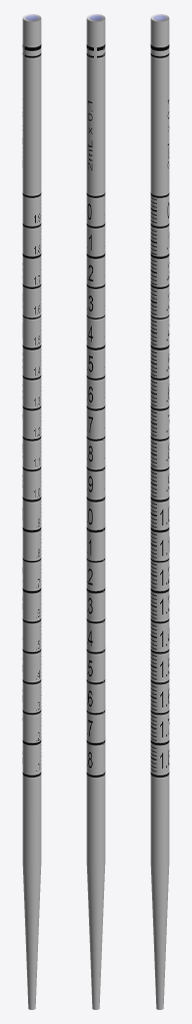
Rendered from 2mlserologicalsplittop.fbx.
3 renders of one model, left to right at view 1: azimuth 90°, elevation 25°; view 2: azimuth 150°, elevation 25°; view 3: azimuth 270°, elevation 25°, orthographic.
Parts seen in each view (by area): view 1: serological-pipette-2-ref; view 2: serological-pipette-2-ref; view 3: serological-pipette-2-ref.
Boxes of the visible parts, x1,y1,x2,y2 form: serological-pipette-2-ref: (22,14,41,1009); serological-pipette-2-ref: (86,14,105,1009); serological-pipette-2-ref: (150,14,169,1009).
Size of the model in its own units: 0.00393 by 0.232 by 0.00393.
Materials: 2 (1 with a texture image).
